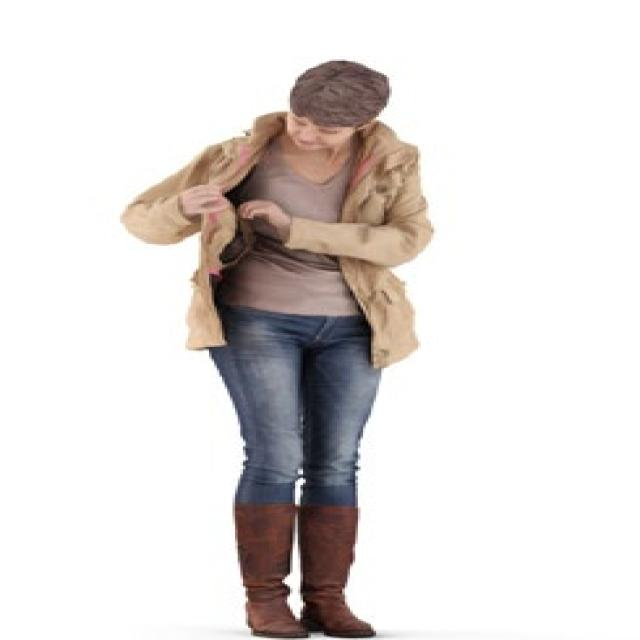standing: (119, 54, 444, 640)
